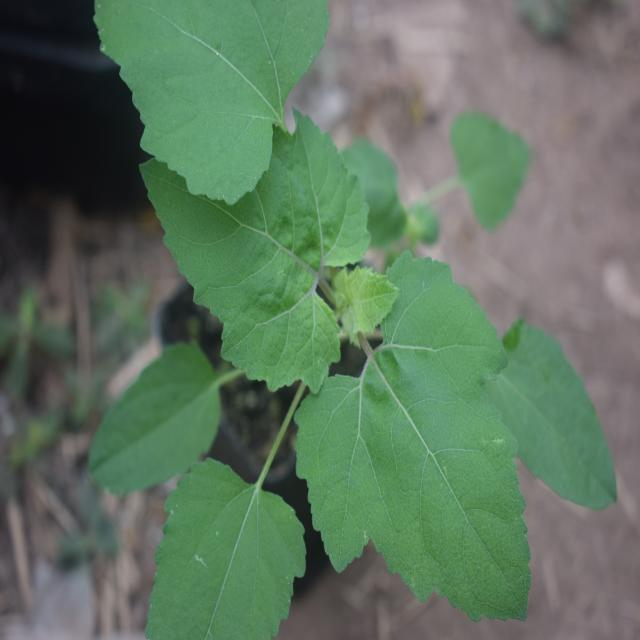cocklebur: (72, 0, 551, 605)
